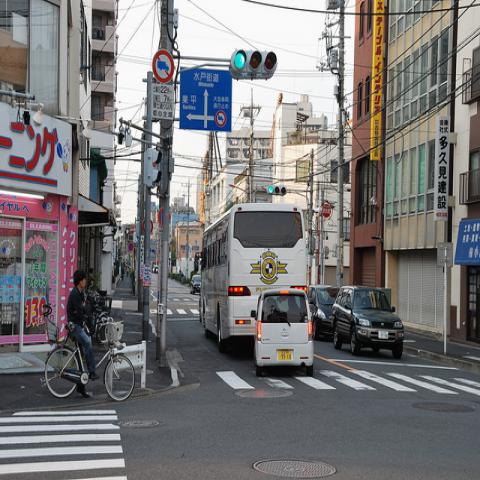bus: (199, 204, 309, 354)
car: (249, 289, 314, 378), (332, 283, 406, 355), (307, 284, 340, 339), (190, 274, 201, 294), (153, 264, 158, 274)
